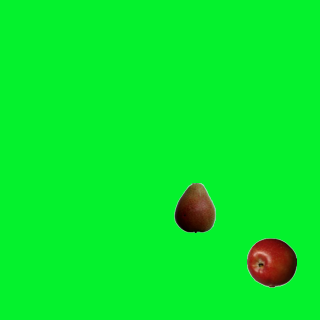Apple Braeburn: (246, 237, 296, 287)
Pear Forelle: (169, 182, 219, 232)
